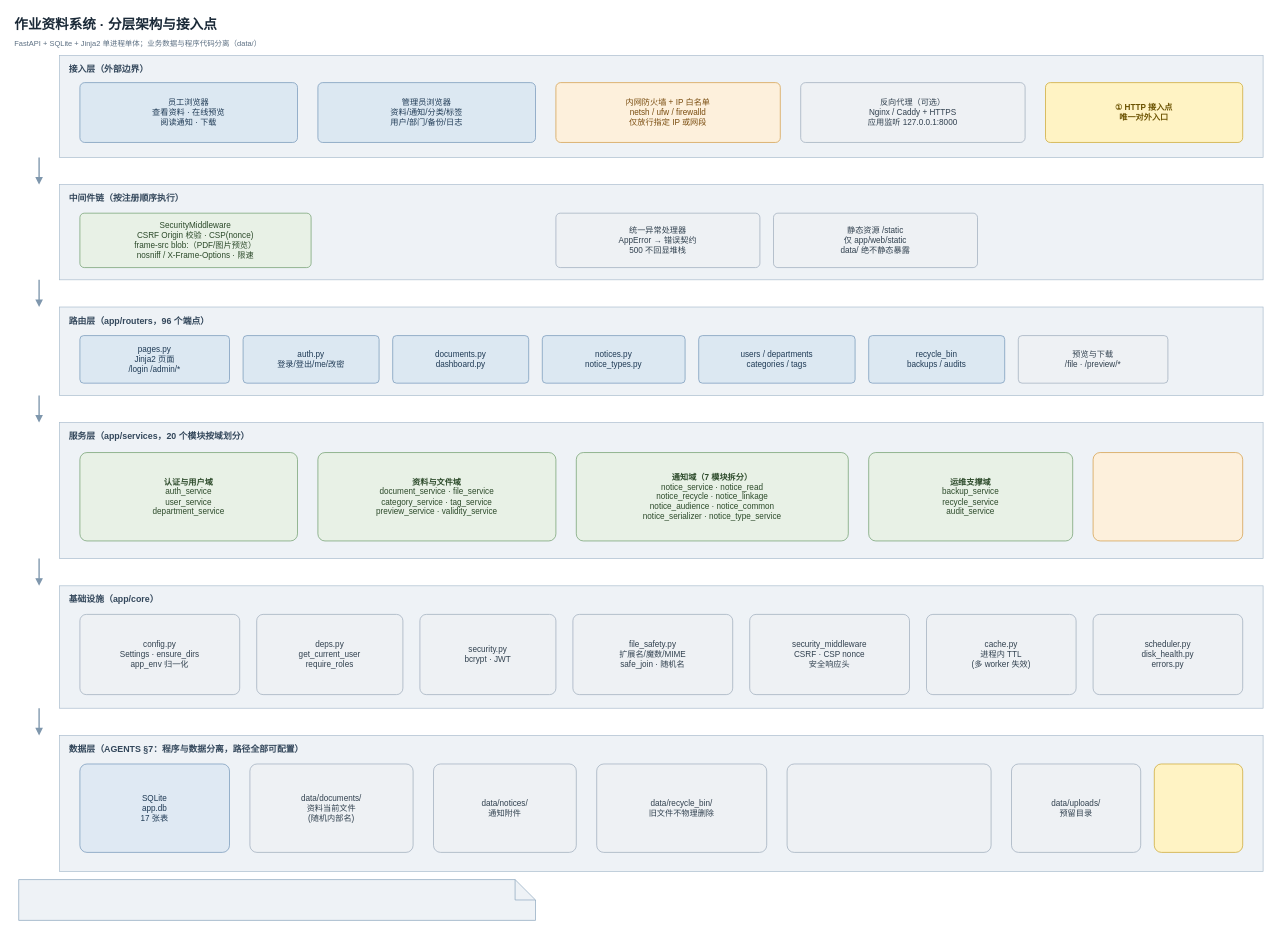
This 1275x932 diagram has some shape labels left out. Here are the shapes that lost their labels. From the top down, the centre of each, then its label:
[1167,496]: 跨域约束 恢复互斥锁 备份/恢复互斥 列表缓存失效
[888,807]: data/backups/ backup_<ts>/ app.db + files + manifest
[1198,807]: ③ 文件系统接入点 ④ SQLite 接入点
[277,899]: 层级流向 ：接入层 → 中间件 → 路由 → 服务 → 数据。 左侧竖箭头表示依赖方向，跨层不画连线以免穿越方块。
